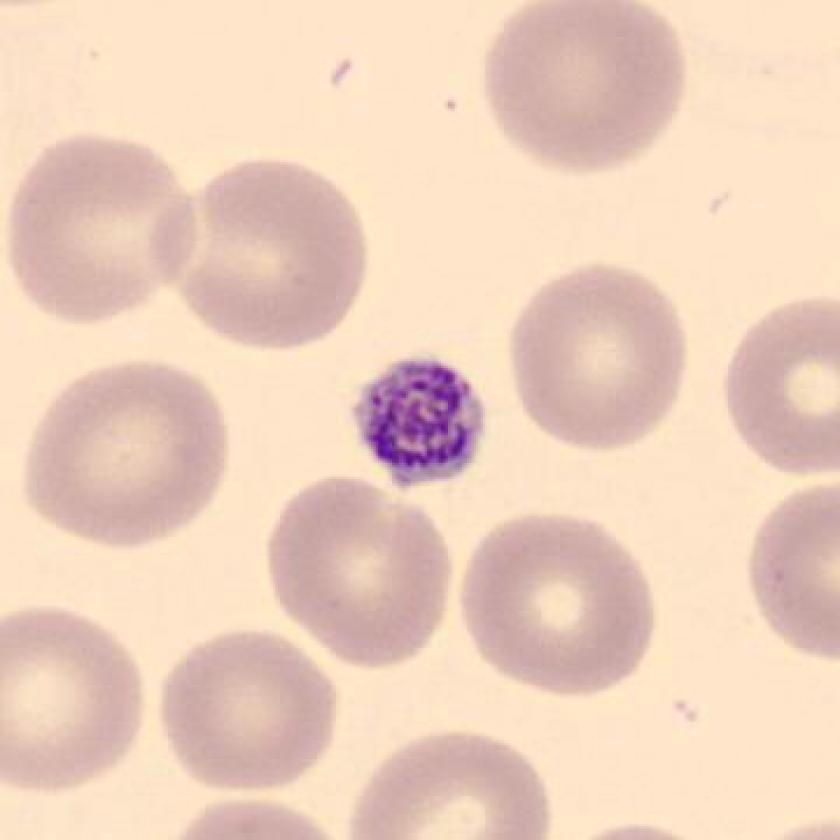platelets: (344, 346, 503, 503)
